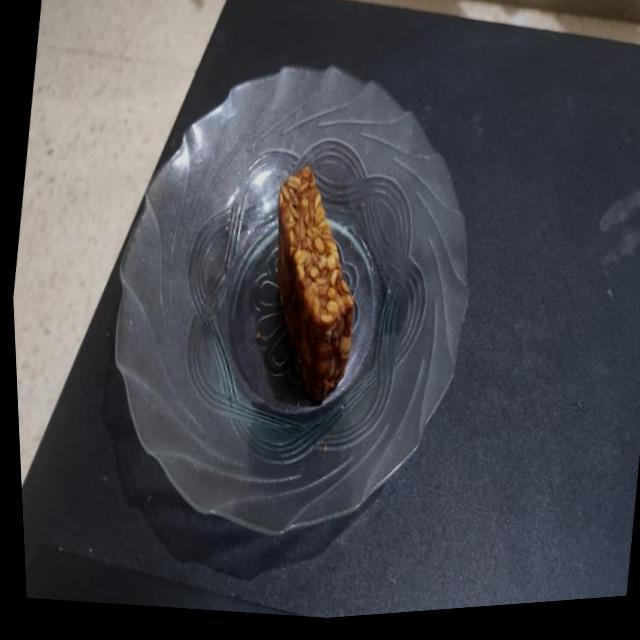tempe_goreng: (278, 167, 354, 400)
